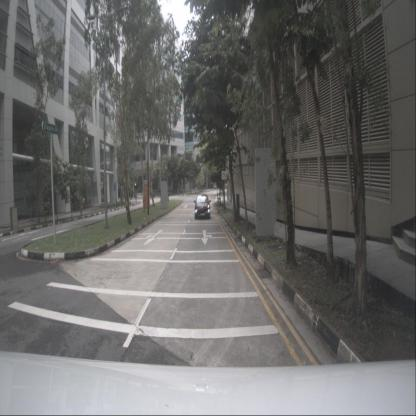human-pedestrian-adult: (81, 196, 85, 210)
vehicle-car: (194, 194, 210, 220)
